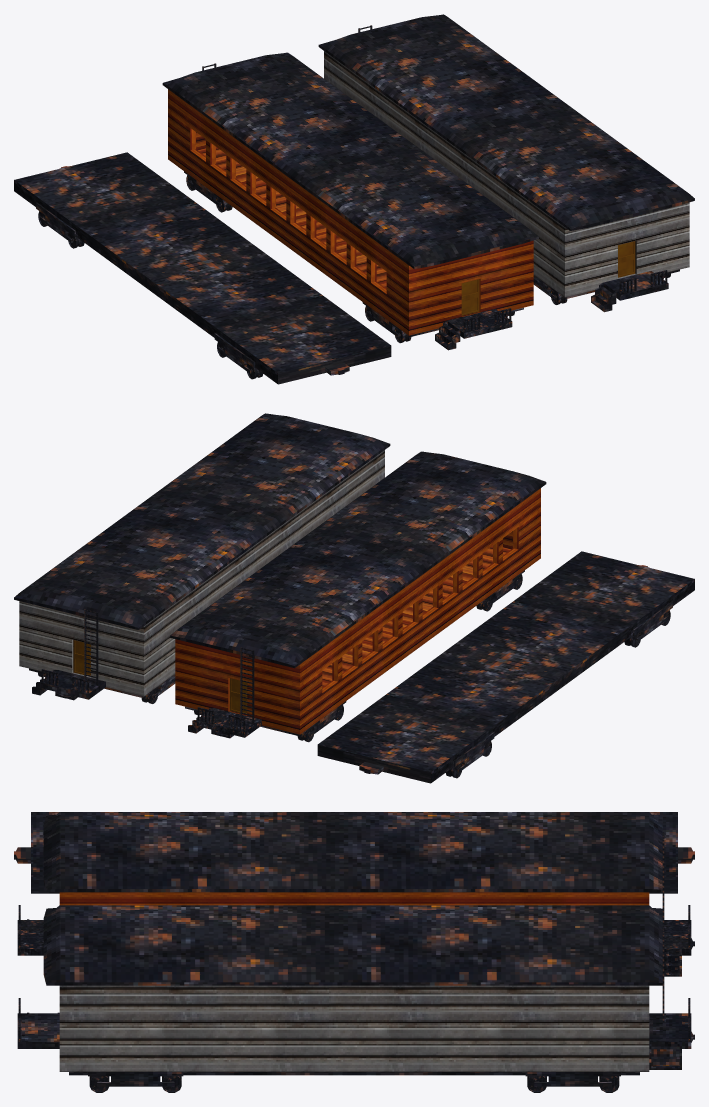
Rendered from traincars.fbx.
The picture shows the model from 3 angles, top to bottom: view 1: azimuth 30°, elevation 25°; view 2: azimuth 150°, elevation 25°; view 3: azimuth 270°, elevation 25°; orthographic projection. The views are drawn at different scales.
Visible parts, largest first — view 1: floorBed, roof.001, roof, wallsWithWindows, wallsNoWindows, floor.001, entrancePlatforms, entrancePlatforms.001, door2.001, door2; view 2: floorBed, roof, roof.001, wallsWithWindows, wallsNoWindows, floor.001, entrancePlatforms, entrancePlatforms.001, ladder.001, ladder; view 3: wallsNoWindows, roof.001, roof, wallsWithWindows, floor, entrancePlatforms, floorBed, entrancePlatforms.001.
Part boxes in pixels (x1=…): floorBed: x1=14, y1=152, x2=391, y2=384; roof.001: x1=162, y1=52, x2=538, y2=269; roof: x1=318, y1=14, x2=694, y2=230; wallsWithWindows: x1=168, y1=89, x2=533, y2=335; wallsNoWindows: x1=324, y1=51, x2=689, y2=297; floor.001: x1=184, y1=147, x2=523, y2=337; entrancePlatforms: x1=591, y1=271, x2=668, y2=312; entrancePlatforms.001: x1=435, y1=309, x2=512, y2=350; door2.001: x1=461, y1=279, x2=479, y2=315; door2: x1=618, y1=241, x2=635, y2=277; floorBed: x1=317, y1=551, x2=694, y2=783; roof: x1=14, y1=413, x2=390, y2=629; roof.001: x1=170, y1=451, x2=546, y2=668; wallsWithWindows: x1=175, y1=488, x2=540, y2=734; wallsNoWindows: x1=19, y1=450, x2=384, y2=696; floor.001: x1=185, y1=546, x2=524, y2=736; entrancePlatforms: x1=32, y1=670, x2=105, y2=700; entrancePlatforms.001: x1=188, y1=708, x2=261, y2=738; ladder.001: x1=240, y1=647, x2=254, y2=723; ladder: x1=84, y1=609, x2=98, y2=685; wallsNoWindows: x1=59, y1=985, x2=649, y2=1071; roof.001: x1=43, y1=812, x2=662, y2=892; roof: x1=43, y1=905, x2=662, y2=985; wallsWithWindows: x1=59, y1=892, x2=649, y2=905; floor: x1=69, y1=1072, x2=639, y2=1086; entrancePlatforms: x1=17, y1=1012, x2=694, y2=1069; floorBed: x1=14, y1=812, x2=694, y2=893; entrancePlatforms.001: x1=17, y1=919, x2=694, y2=976.
Size of the model in its own units: 3155 by 714 by 3580.
